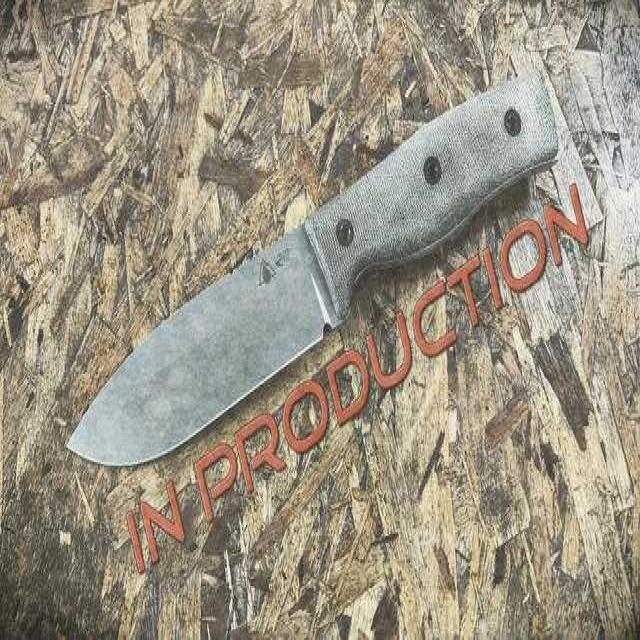Knife: (62, 70, 558, 481)
